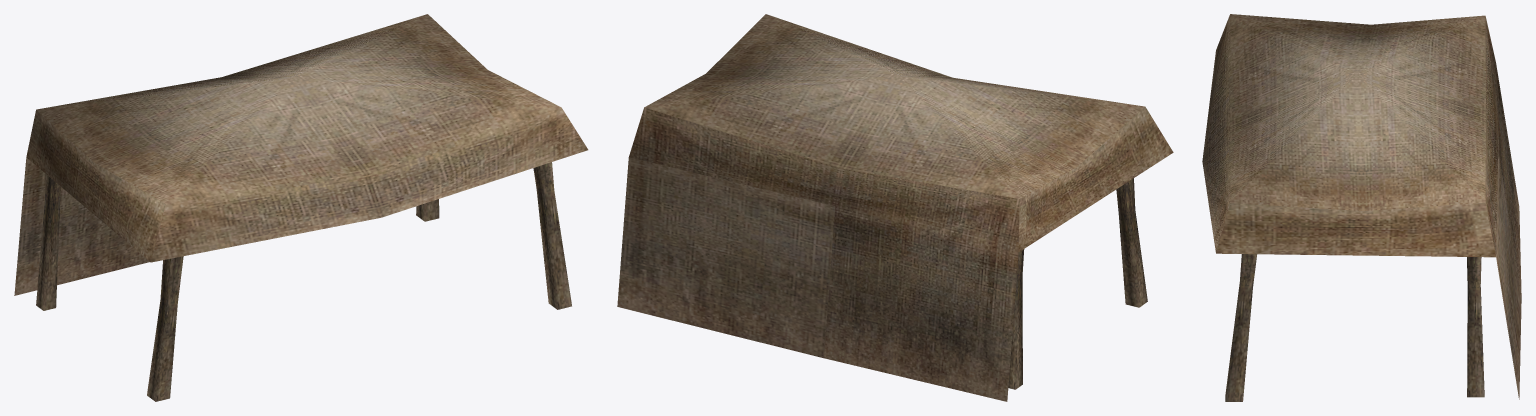
File: desert_tent01.glb
3 views of the same model, side by side, from view 1: azimuth 30°, elevation 25°; view 2: azimuth 150°, elevation 25°; view 3: azimuth 270°, elevation 25° (orthographic). The views are drawn at different scales.
Parts seen in each view (by area): view 1: desert_tent01; view 2: desert_tent01; view 3: desert_tent01.
Boxes of the visible parts, x1=… form: desert_tent01: x1=14, y1=14, x2=588, y2=401; desert_tent01: x1=617, y1=14, x2=1173, y2=401; desert_tent01: x1=1202, y1=14, x2=1521, y2=401.
Bounding box in the file's own units: 6.9 × 3.47 × 4.45.
1 material, 1 textured.
